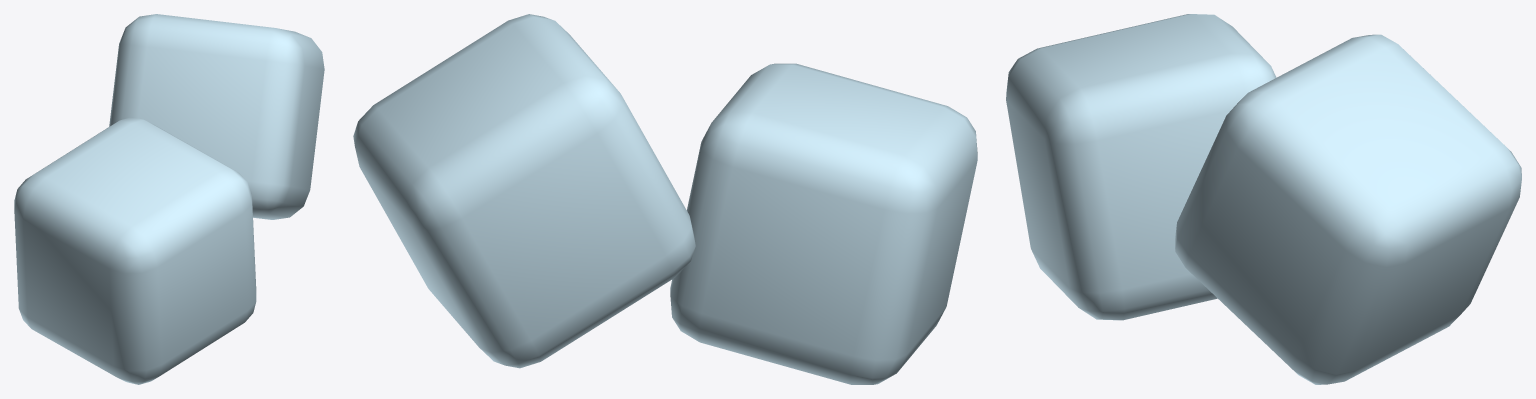
Rendered from Item_Ice.fbx.
3 renders of one model, left to right at view 1: azimuth 30°, elevation 25°; view 2: azimuth 150°, elevation 25°; view 3: azimuth 270°, elevation 25°, orthographic. The views are drawn at different scales.
Parts seen in each view (by area): view 1: Day_Ice.001; view 2: Day_Ice.001; view 3: Day_Ice.001.
Part boxes in pixels (box(x1,y1,x2,y2)): Day_Ice.001: box(14, 14, 324, 384); Day_Ice.001: box(353, 14, 977, 384); Day_Ice.001: box(1006, 14, 1521, 384).
Size of the model in its own units: 42.27 by 27.23 by 39.44.
